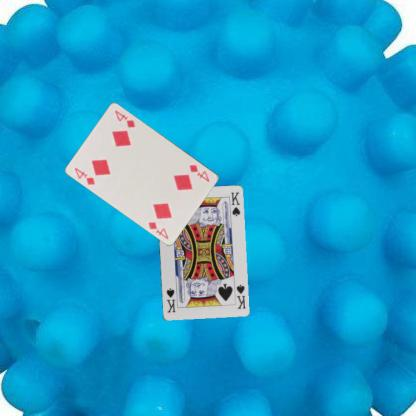4d: (72, 165, 97, 186), (187, 162, 211, 183)
Ks: (234, 281, 247, 310)
